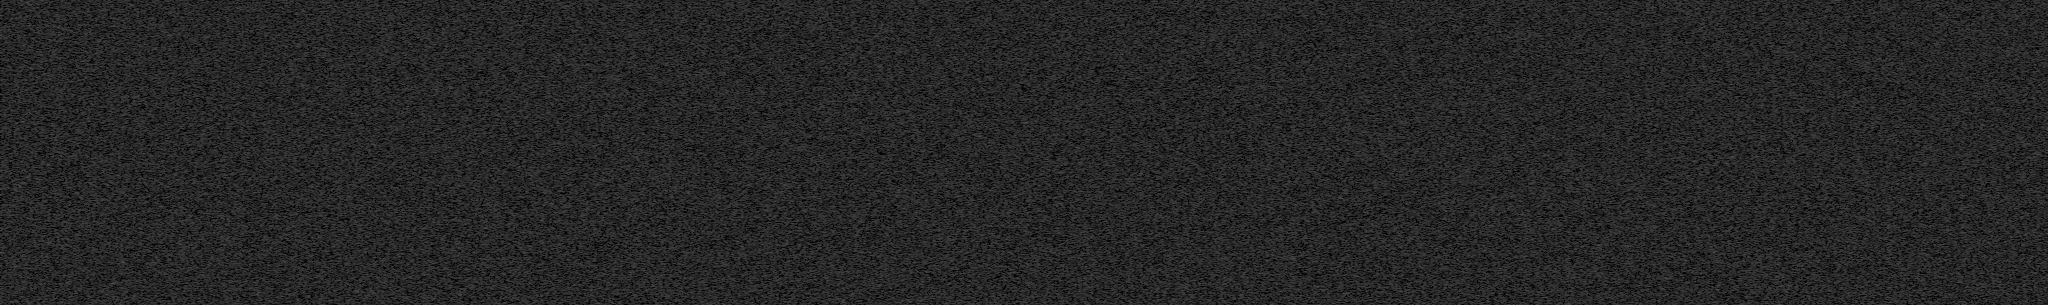wv_am: (622, 0, 640, 305), (477, 0, 488, 305)
wv_cw: (502, 0, 509, 305)
wv_usb: (212, 4, 218, 270), (138, 7, 144, 305), (212, 271, 218, 305)
